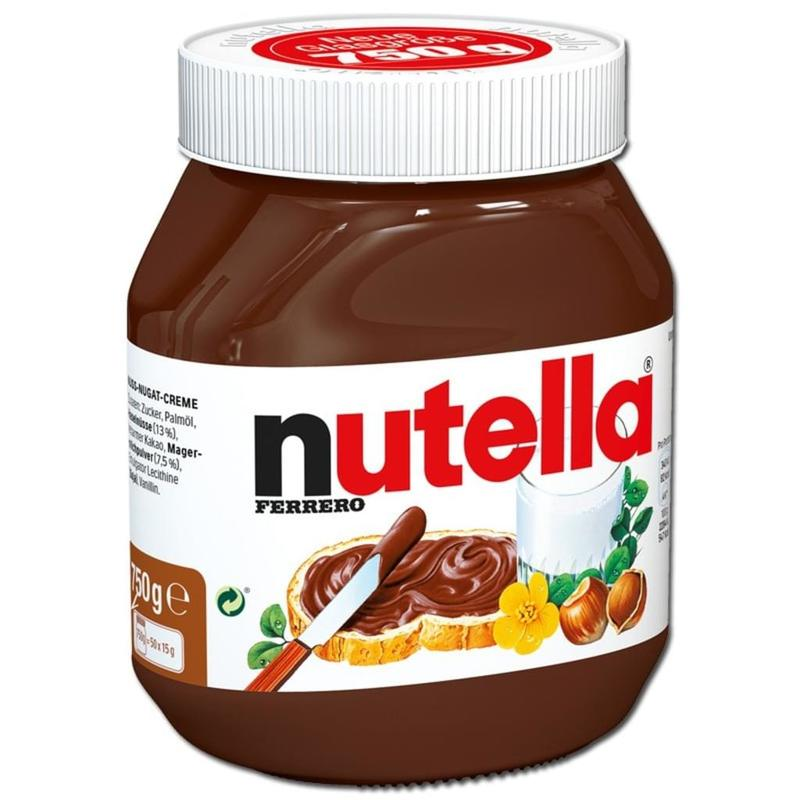nutella: (126, 11, 672, 786)
